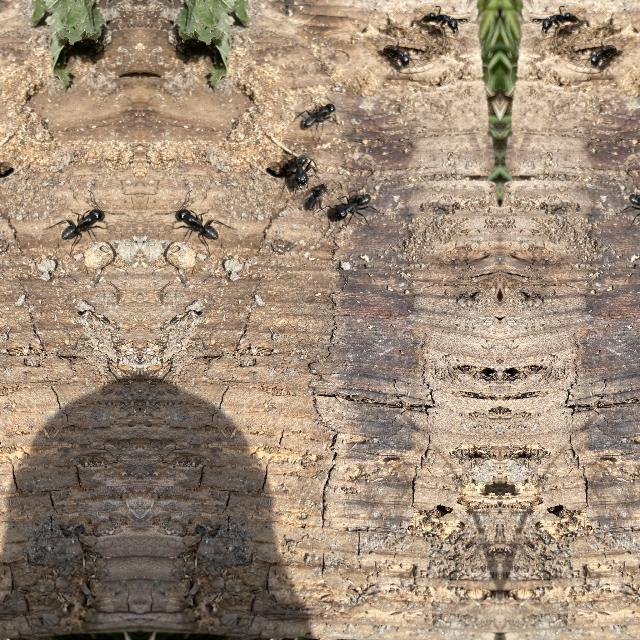Camponotus: (320, 184, 382, 228), (167, 196, 231, 238), (49, 196, 113, 238), (296, 92, 342, 140), (277, 146, 313, 192), (421, 1, 461, 35), (539, 1, 579, 35), (580, 39, 612, 73), (616, 184, 640, 228), (388, 39, 419, 73), (302, 175, 332, 209)
